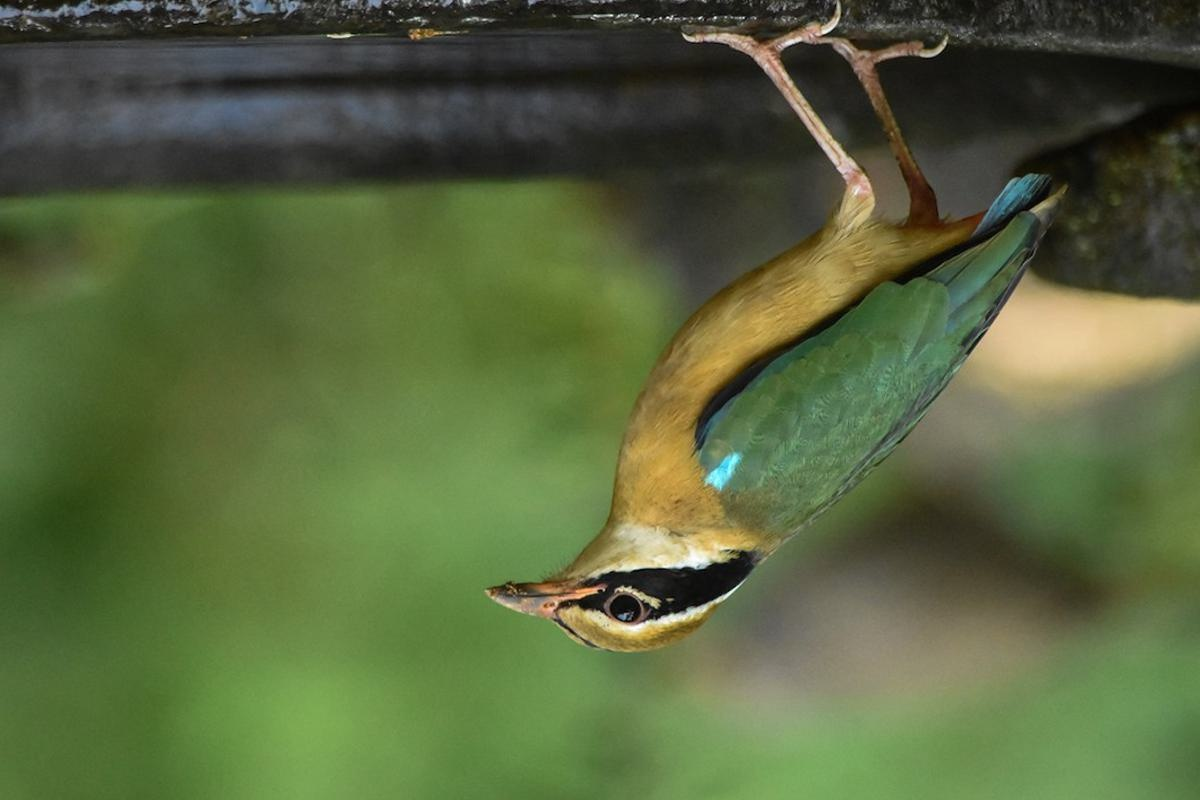pitta: (469, 56, 1078, 670)
